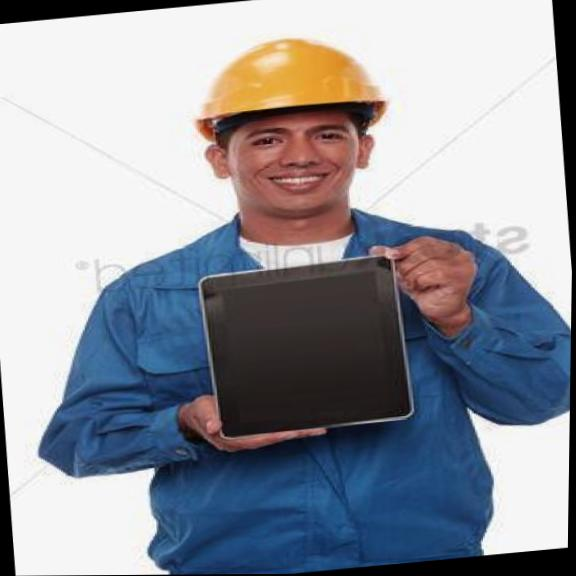safety_vest: (33, 191, 573, 576)
